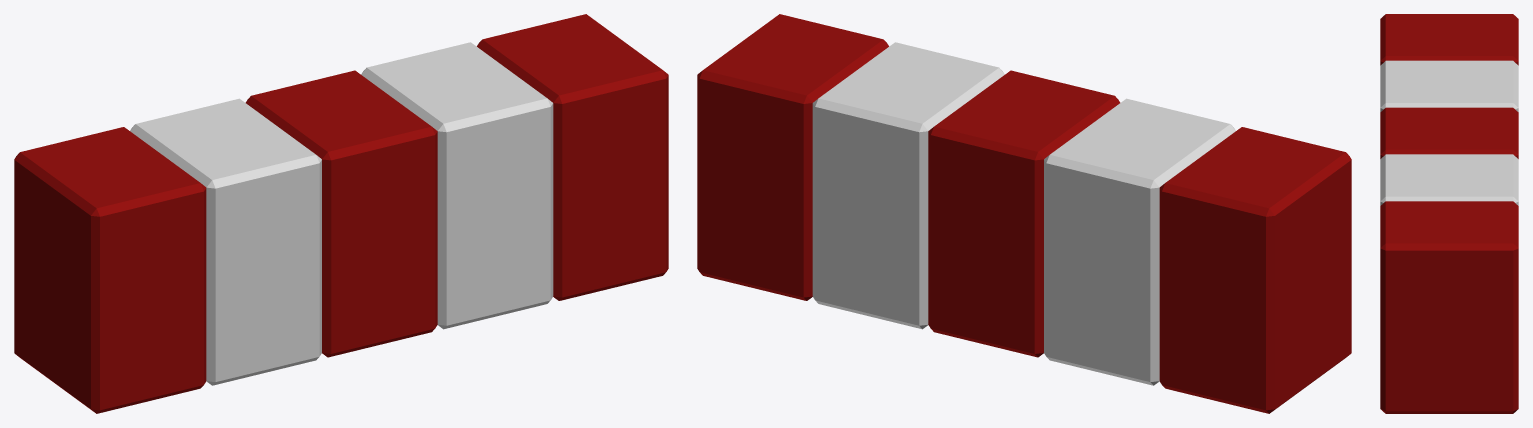
Rendered from barrier.glb.
3 views of the same model, side by side, from view 1: azimuth 30°, elevation 25°; view 2: azimuth 150°, elevation 25°; view 3: azimuth 270°, elevation 25° (orthographic). The views are drawn at different scales.
Parts seen in each view (by area): view 1: barrier; view 2: barrier; view 3: barrier.
Boxes of the visible parts, box(x1,y1,x2,y2) form: barrier: box(14, 14, 668, 413); barrier: box(697, 14, 1351, 413); barrier: box(1380, 14, 1518, 413).
Size of the model in its own units: 2 by 0.68 by 0.5.
